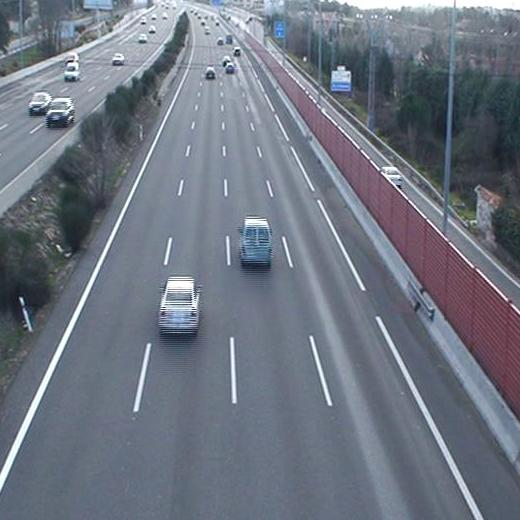car: (154, 276, 204, 337), (237, 215, 274, 267), (224, 63, 236, 75), (204, 66, 215, 79)
